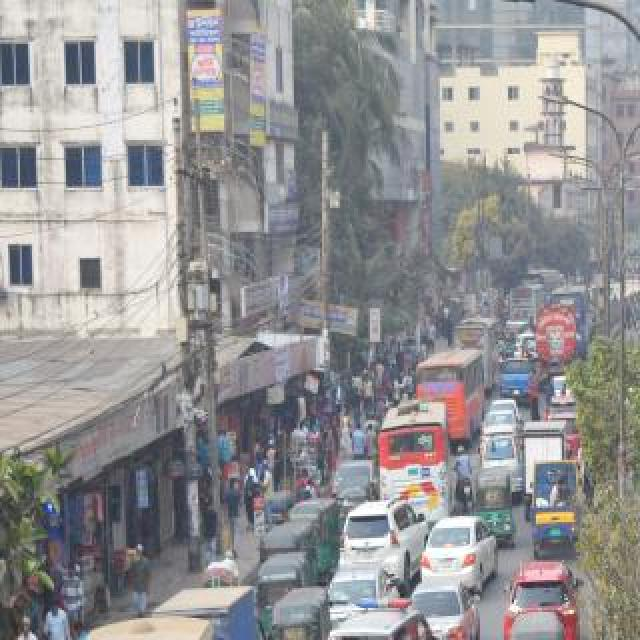bus: (377, 397, 453, 525), (416, 348, 486, 436), (4, 622, 230, 640), (452, 315, 500, 385), (550, 285, 592, 341), (507, 285, 545, 323), (518, 269, 564, 293)
car: (502, 552, 580, 640), (344, 502, 426, 582), (422, 516, 504, 584), (406, 578, 480, 640), (332, 563, 396, 615)
motorbike: (454, 444, 474, 512), (498, 336, 506, 368)
truck: (535, 302, 581, 380)
van: (160, 576, 268, 640), (532, 457, 584, 553), (520, 412, 568, 488), (326, 610, 442, 640), (482, 424, 524, 496), (503, 352, 535, 406)
